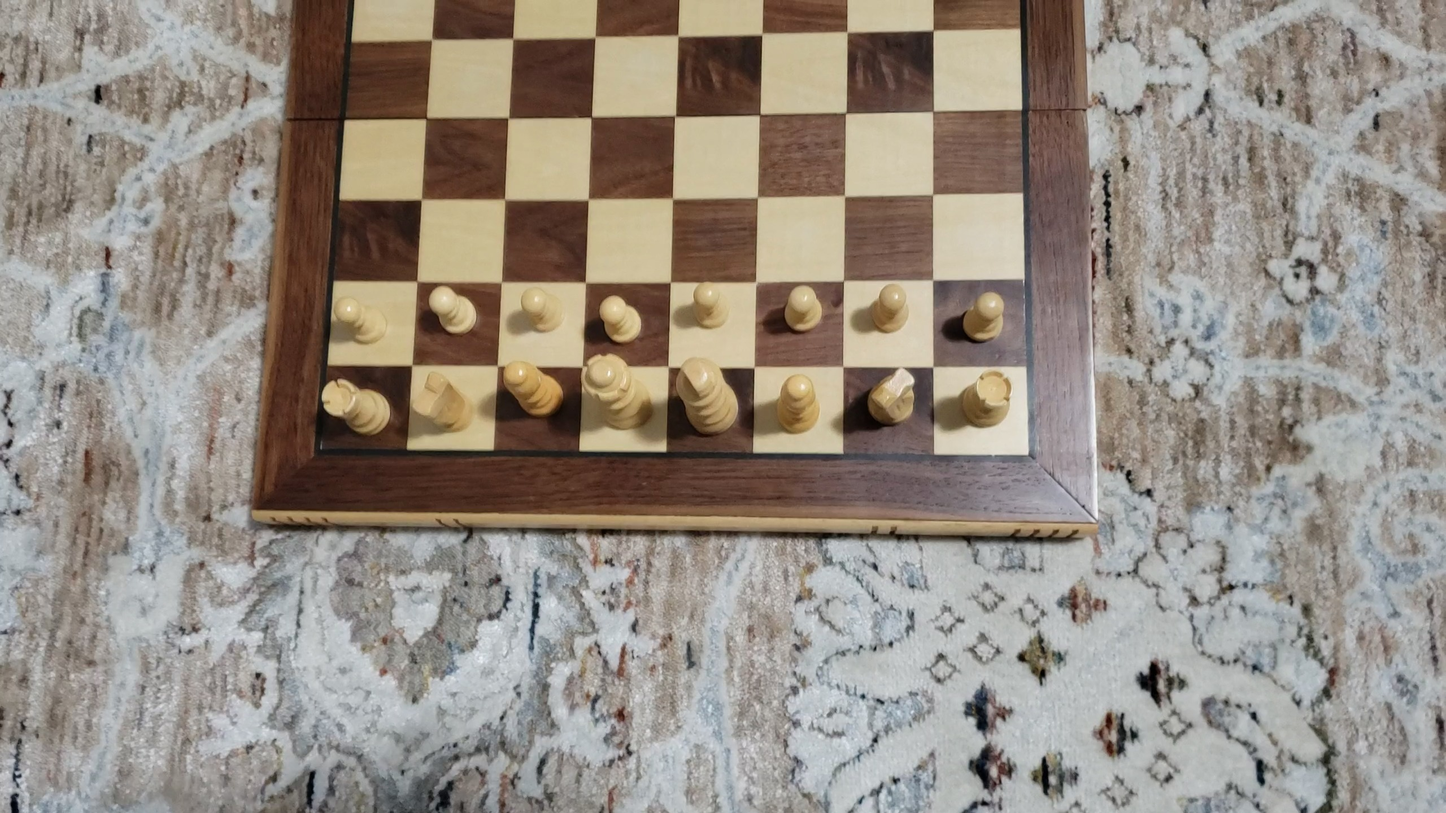white-bishop: (772, 363, 829, 443), (502, 359, 564, 419)
white-king: (676, 357, 735, 435)
white-knight: (408, 360, 480, 448), (858, 363, 926, 433)
white-pawn: (320, 280, 400, 362), (424, 271, 487, 351), (953, 284, 1012, 353), (591, 281, 647, 353), (678, 273, 734, 338), (775, 278, 829, 343), (865, 274, 916, 341), (512, 278, 568, 335)
white-queen: (582, 352, 655, 432)
white-rook: (951, 366, 1031, 436), (321, 380, 390, 439)
